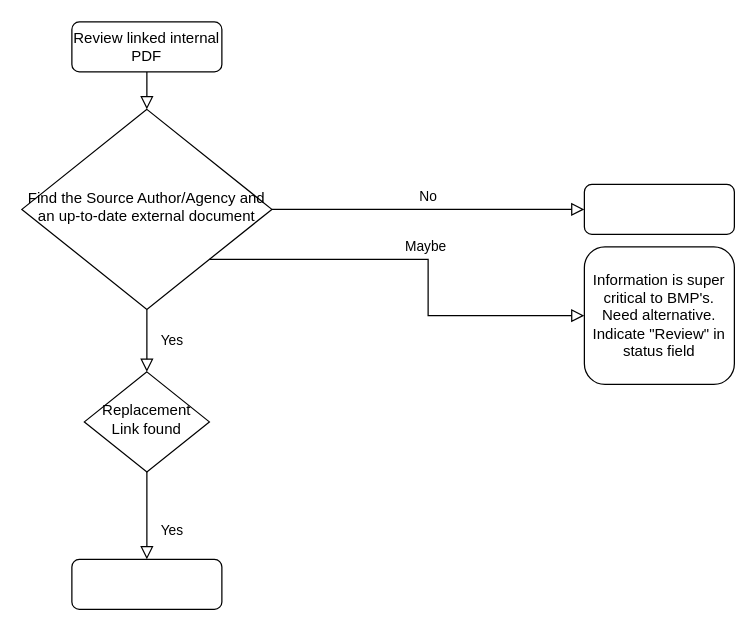
Image size: 756x631. Some labels were removed from this diagram. Here are the shapes that lost their labels. From the top down, the centre of each, then its label:
the point at 658,208: Indicate "Delete" in the status field
the point at 146,583: Add new link to "Source" field
